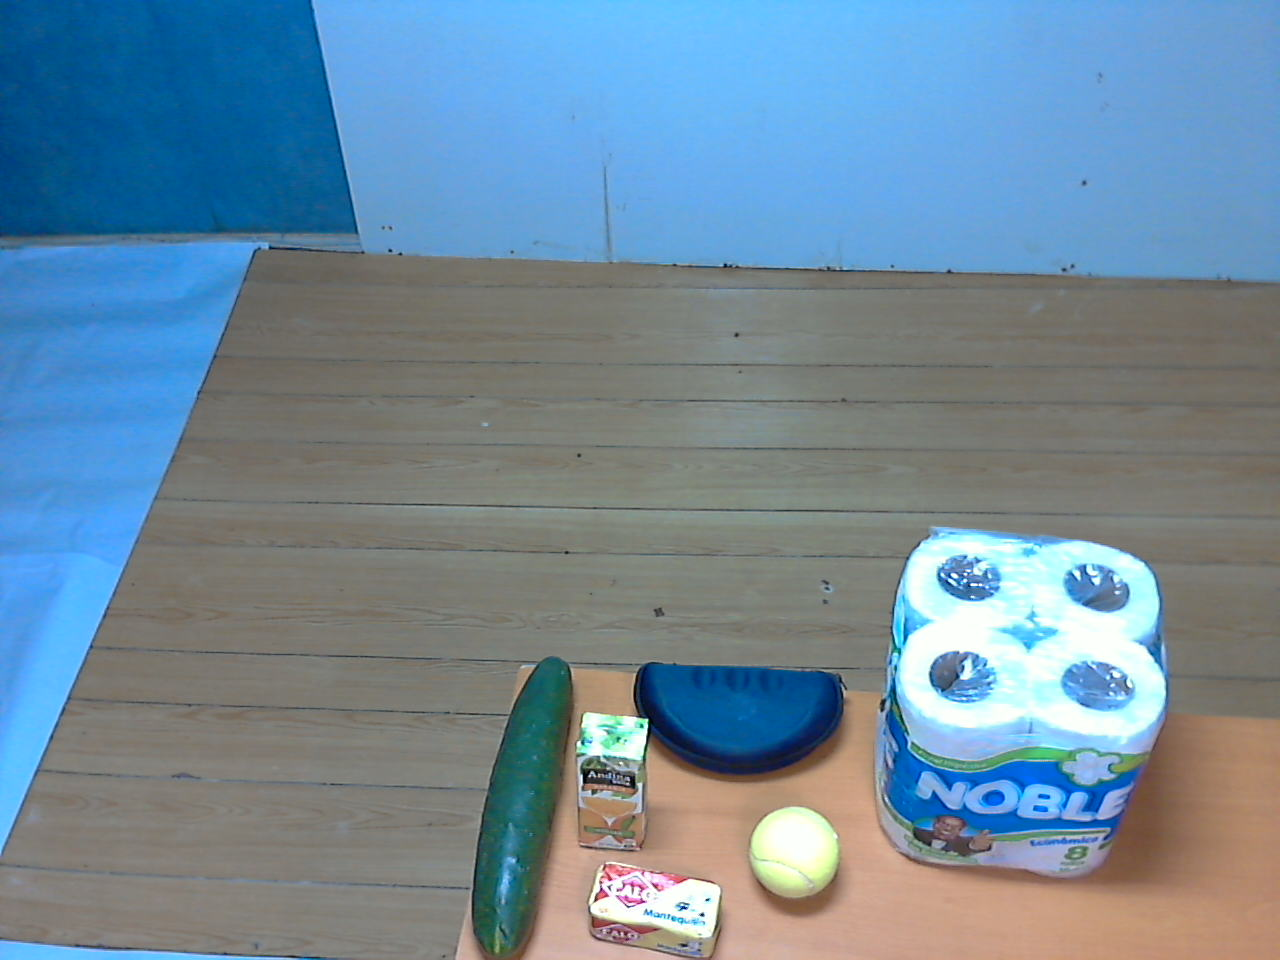confort: (871, 516, 1182, 903)
estuche: (620, 650, 861, 788)
jugoind: (560, 703, 663, 860)
mantequilla: (574, 853, 732, 960)
pelota: (741, 800, 849, 913)
pepino: (455, 638, 594, 960)
